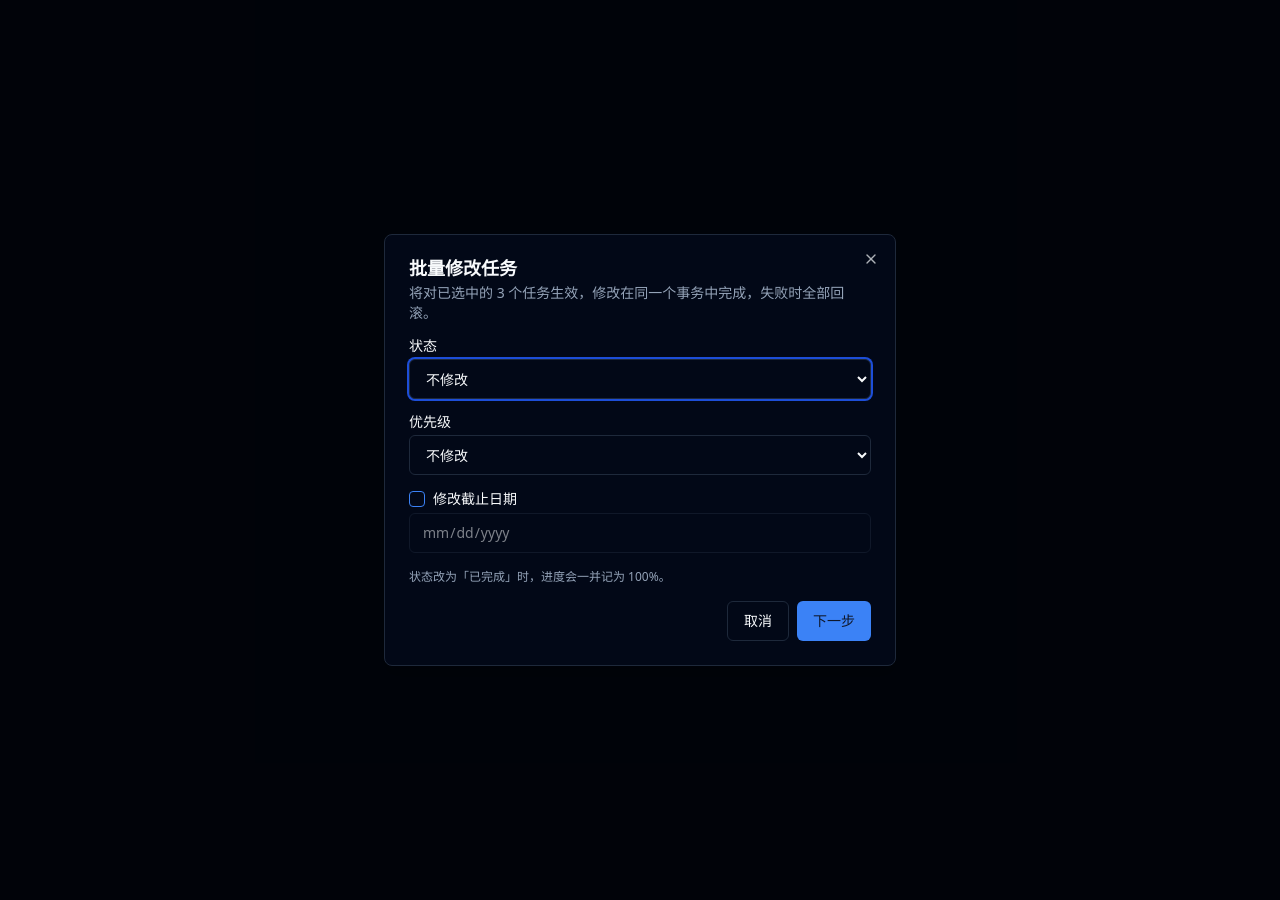
Scenario: BulkEditDialog › refuses to advance when nothing was chosen
Click the button "下一步" at (834, 621), box 797,601 -> 871,641
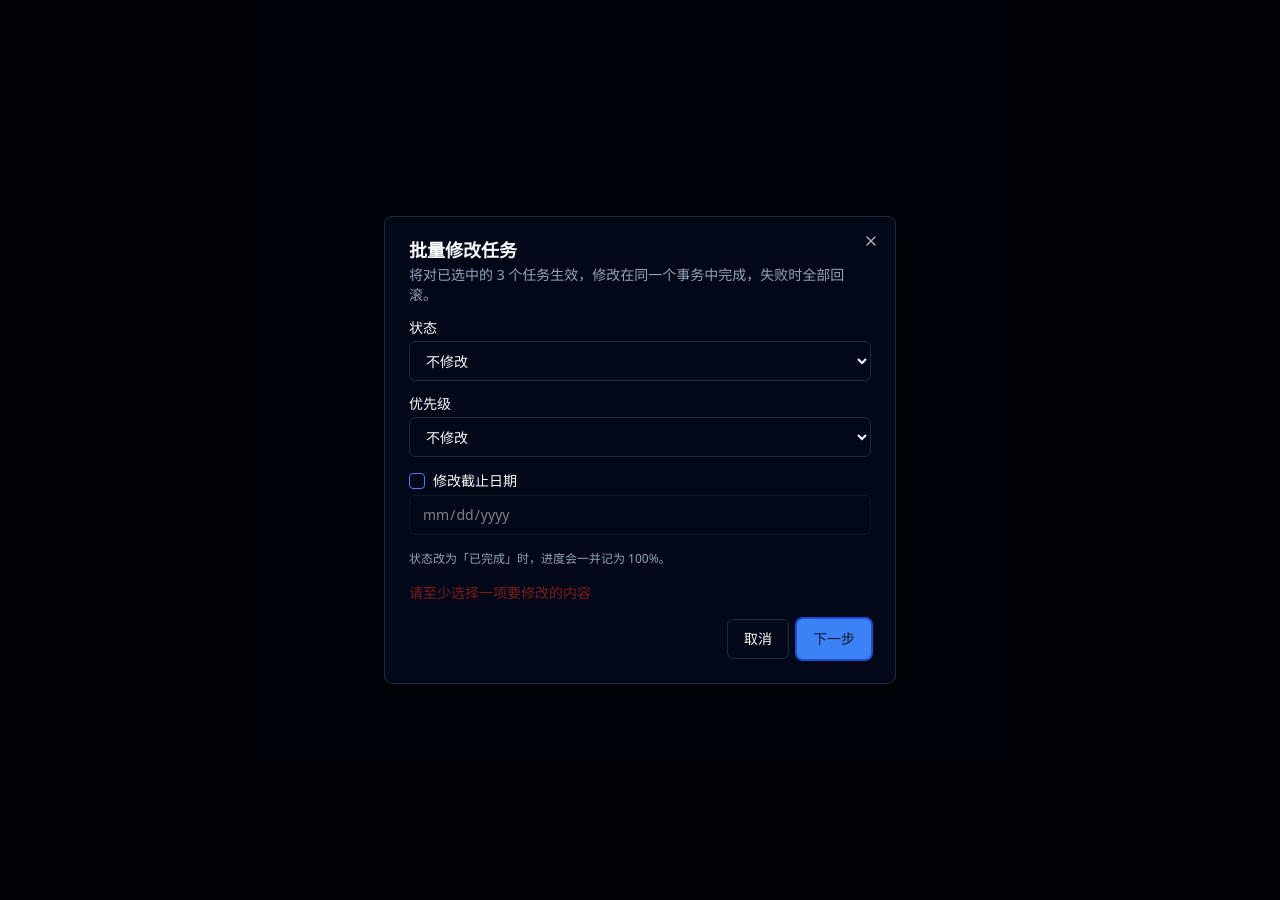
Expected: the text "请至少选择一项要修改的内容" is shown, 409,583 -> 591,602
